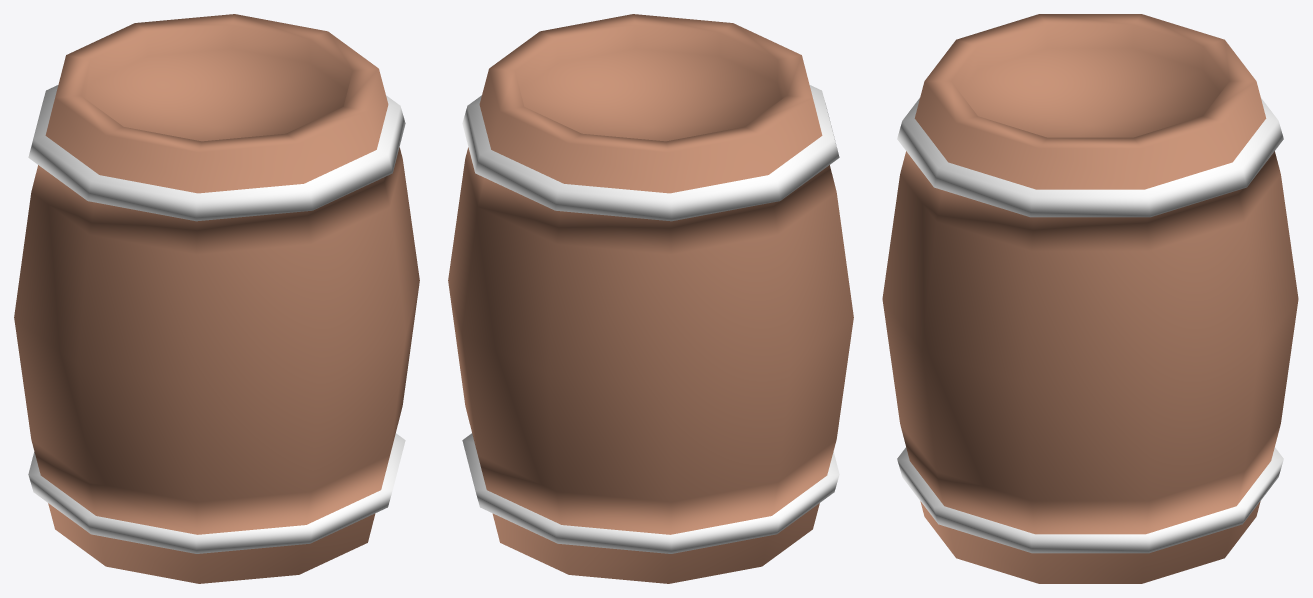
The model's file is Barrel.fbx.
3 views of the same model, side by side, from view 1: azimuth 30°, elevation 25°; view 2: azimuth 150°, elevation 25°; view 3: azimuth 270°, elevation 25° (orthographic).
Visible parts, largest first — view 1: Barrel; view 2: Barrel; view 3: Barrel.
Part boxes in pixels (x1,y1,x2,y2): Barrel: (14,14,419,583); Barrel: (448,14,853,583); Barrel: (882,14,1298,583).
Size of the model in its own units: 32.75 by 39.46 by 34.17.
